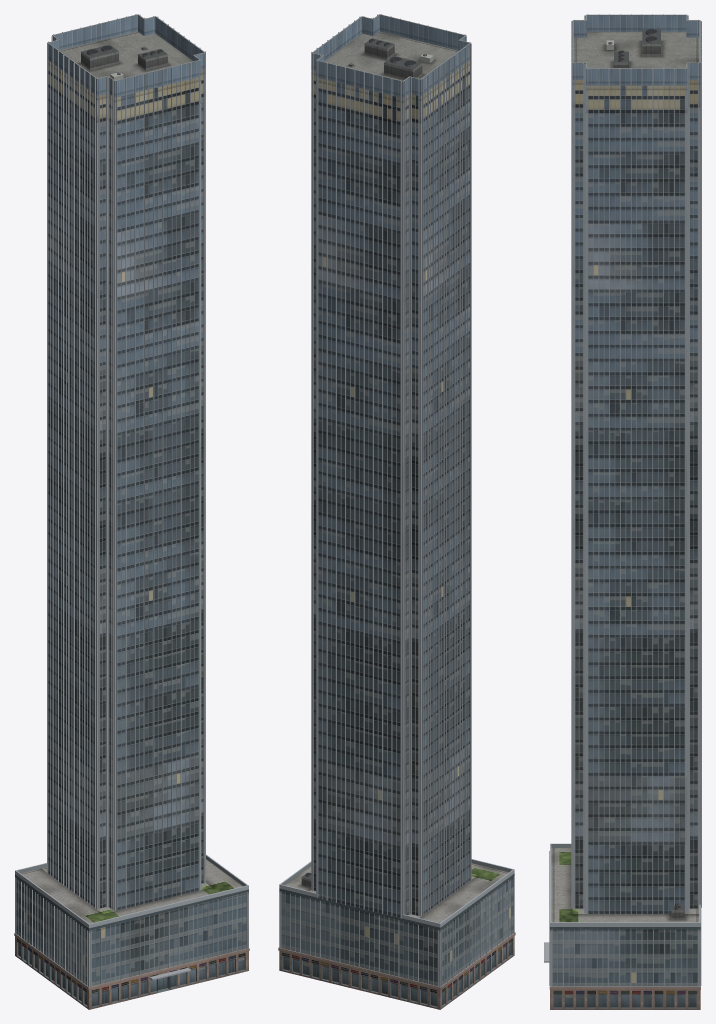
The model's file is nyc_glasstower_d.glb.
3 views of the same model, side by side, from view 1: azimuth 30°, elevation 25°; view 2: azimuth 150°, elevation 25°; view 3: azimuth 270°, elevation 25° (orthographic).
Visible parts, largest first — view 1: nyc_glasstower_d; view 2: nyc_glasstower_d; view 3: nyc_glasstower_d.
Boxes of the visible parts, box(x1,y1,x2,y2) form: nyc_glasstower_d: box(14, 14, 249, 1009); nyc_glasstower_d: box(278, 14, 515, 1009); nyc_glasstower_d: box(544, 14, 701, 1009).
Bounding box in the file's own units: 50.48 × 272 × 41.97.
Materials: 1 (1 with a texture image).
